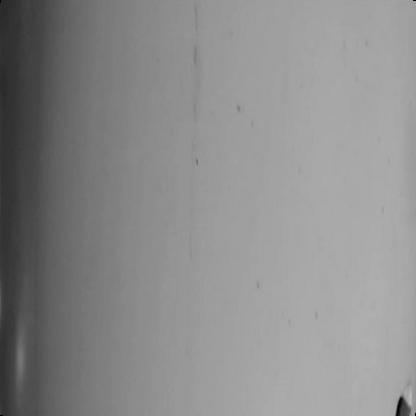kongdong: (384, 374, 413, 416)
